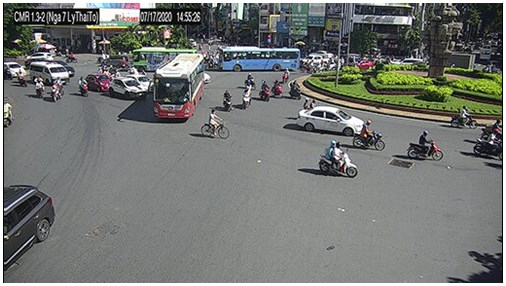xe_buyt: (153, 54, 204, 118), (218, 46, 301, 72), (133, 47, 198, 72)
xe_cuu_thuong: (29, 61, 70, 85)
xe_dap: (200, 110, 230, 139)
xe_hoi: (109, 77, 148, 101), (86, 72, 114, 93), (129, 73, 154, 92), (303, 53, 334, 66)
xe_may: (317, 139, 358, 178), (407, 129, 444, 162), (353, 119, 386, 151), (472, 128, 503, 161), (450, 105, 479, 129), (478, 117, 502, 140), (51, 77, 65, 102), (34, 74, 46, 100), (288, 80, 302, 102), (241, 84, 252, 111), (15, 70, 29, 88), (78, 76, 90, 97), (259, 80, 270, 102), (272, 79, 284, 99), (244, 72, 257, 90), (224, 90, 232, 110), (68, 50, 78, 64), (283, 67, 291, 82)
